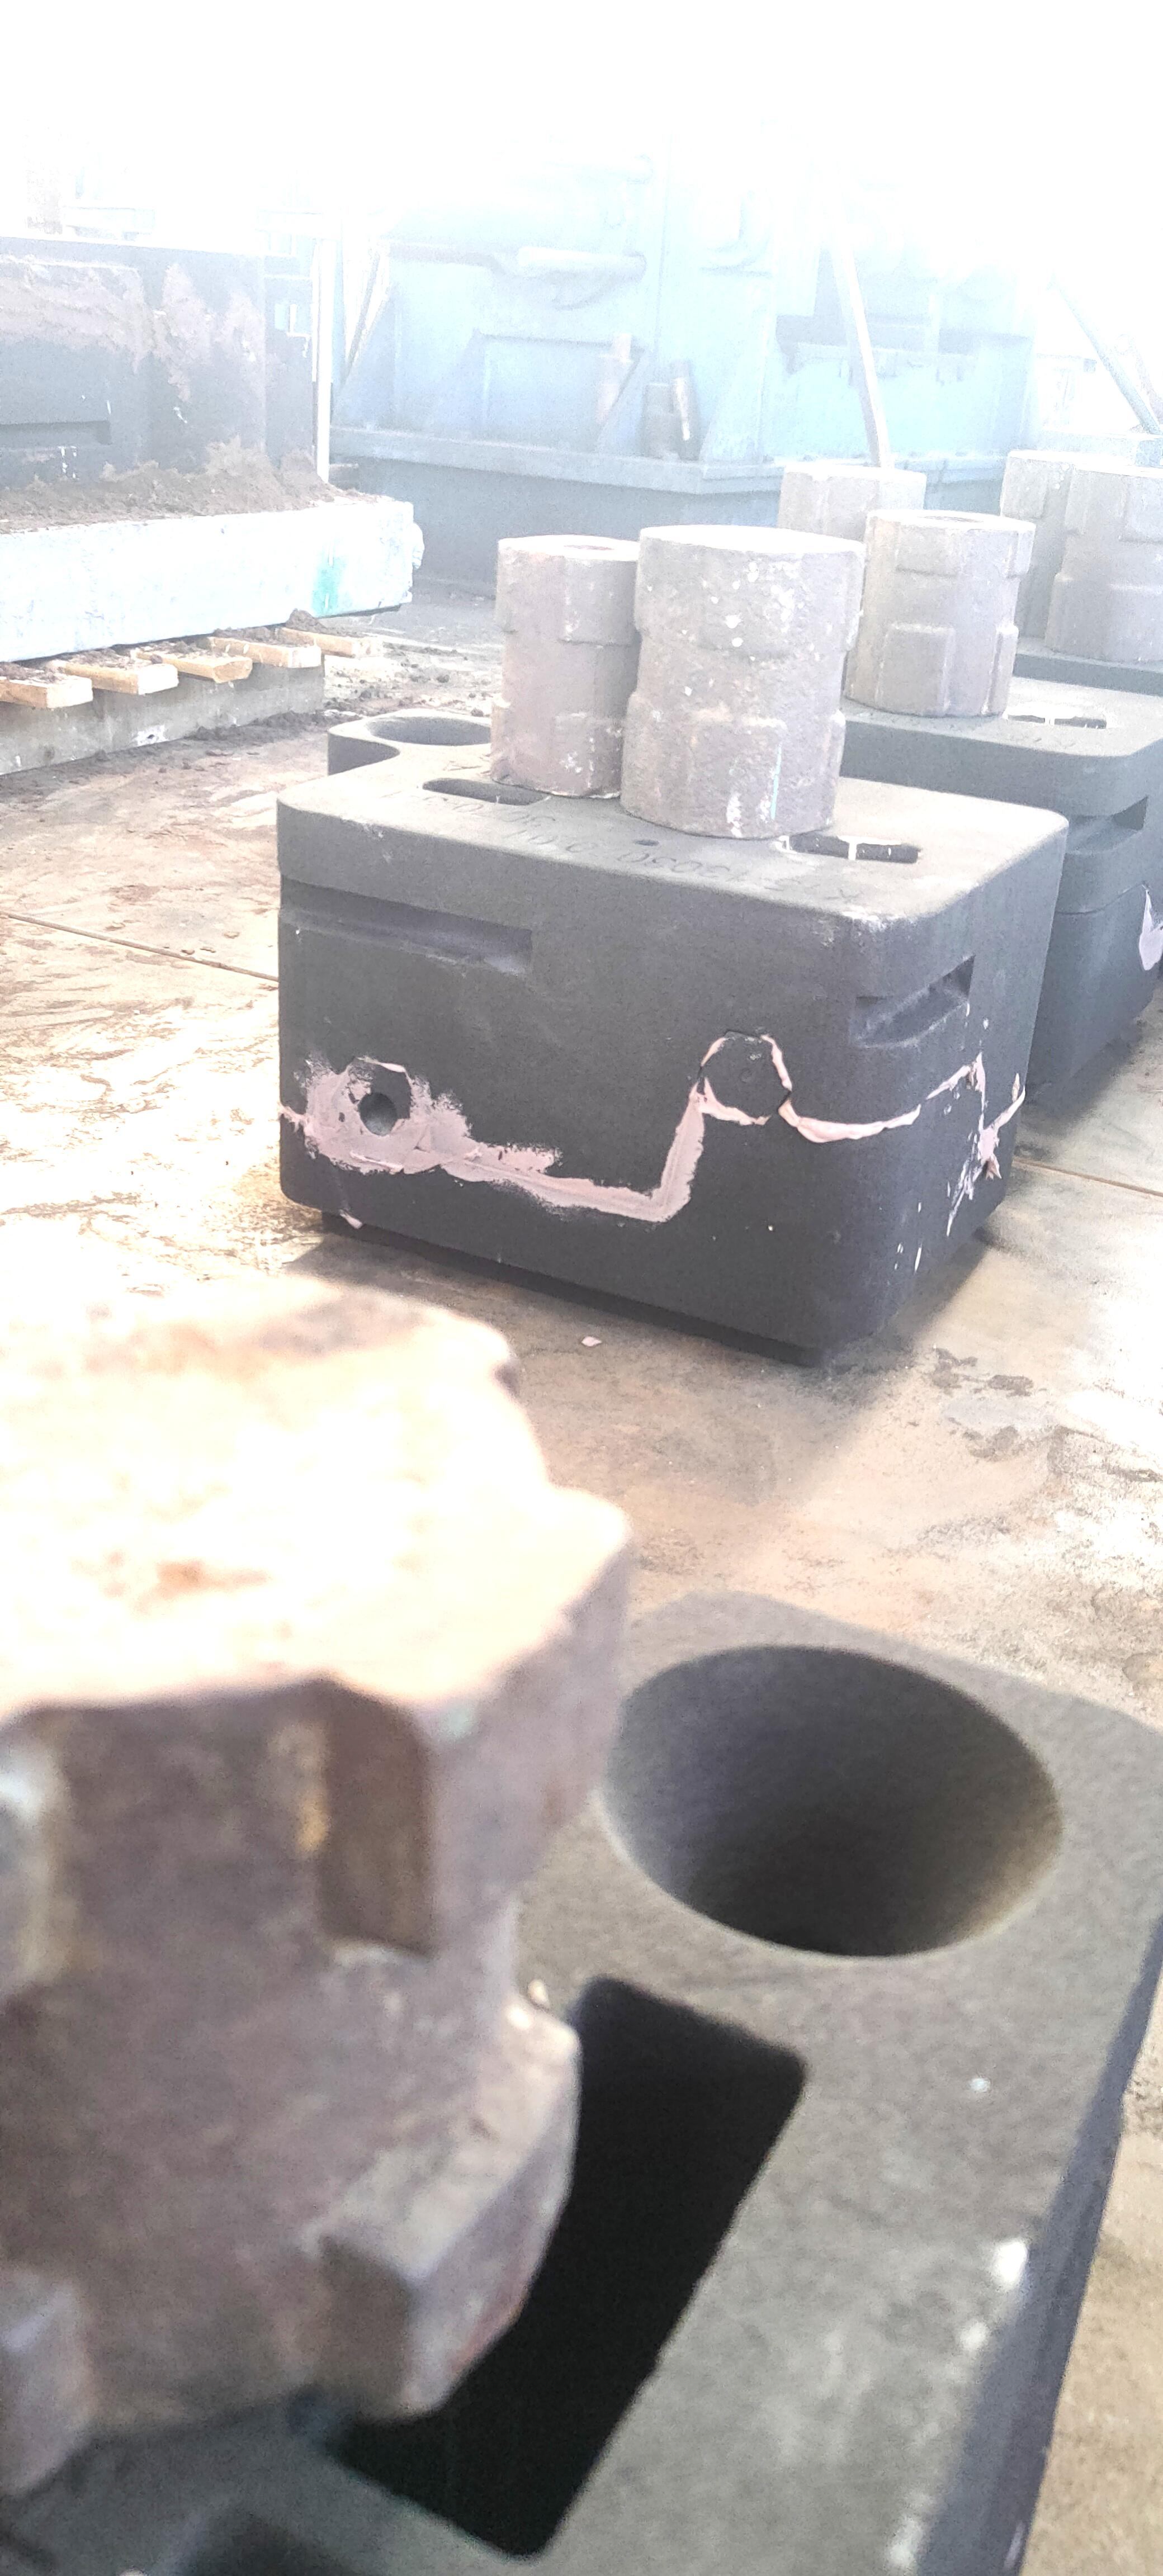pouring hole: (586, 1643, 1063, 1960), (363, 716, 498, 746)
